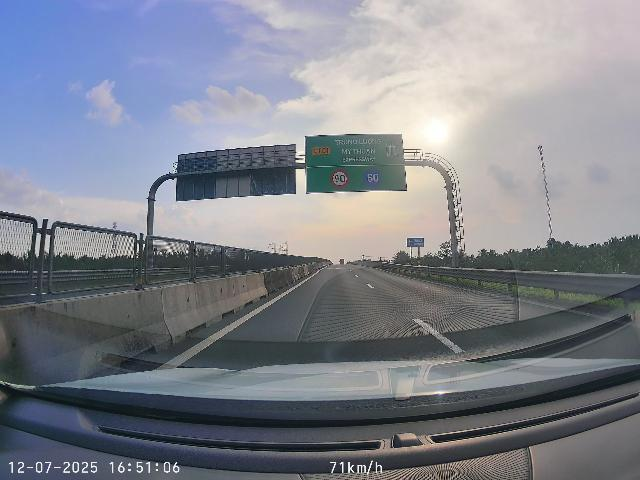127-toc-do-toi-da-90: (330, 169, 349, 188)
306-toc-do-toi-thieu-60: (363, 168, 381, 187)
437-bat-dau-duong-cao-toc: (385, 141, 399, 157)
